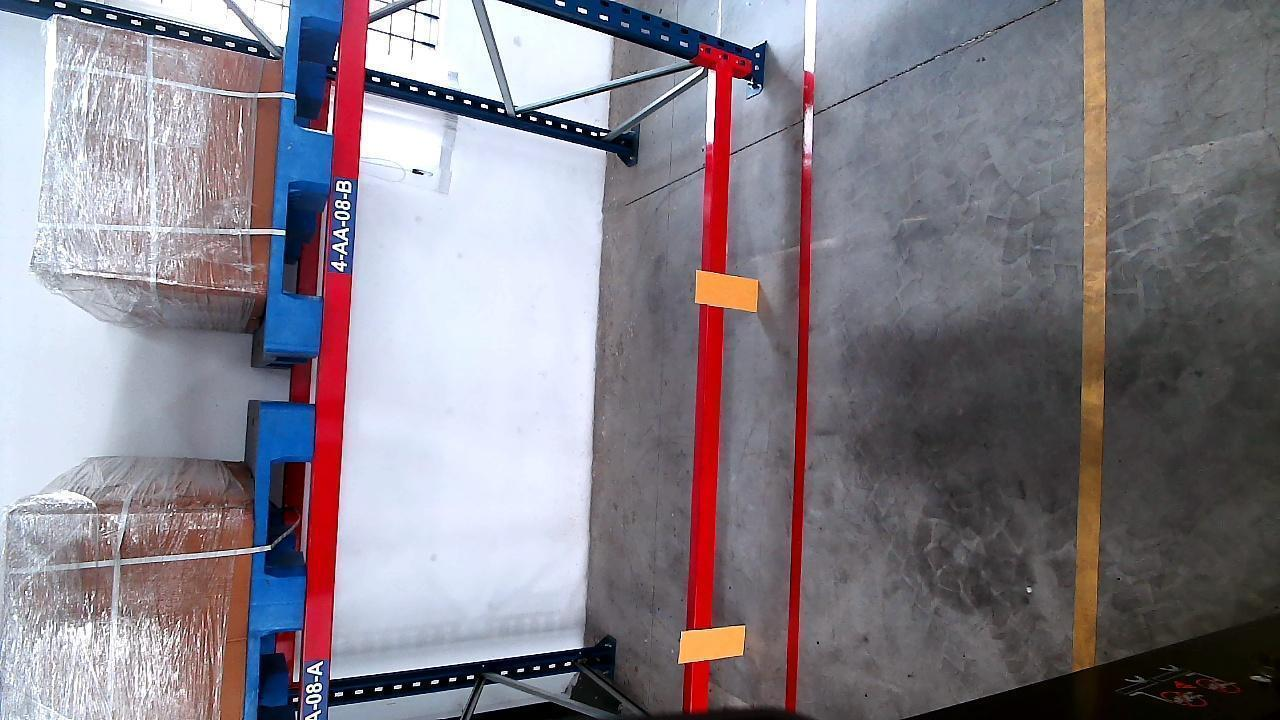red_line: (781, 68, 818, 713)
yellow_line: (1078, 6, 1110, 671)
